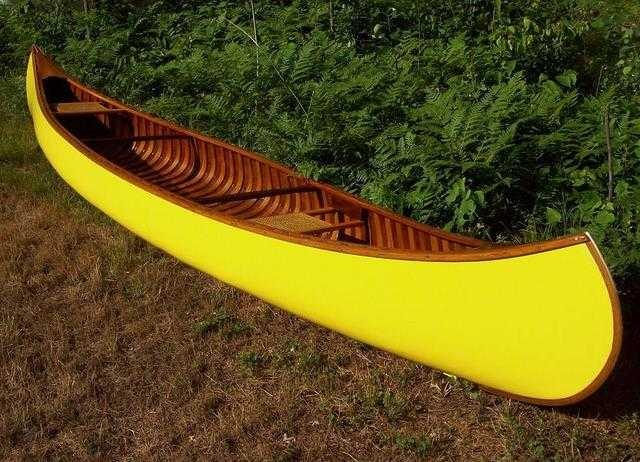kayak: (20, 52, 631, 409)
